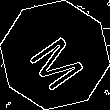M_NE: (21, 22, 89, 88)
